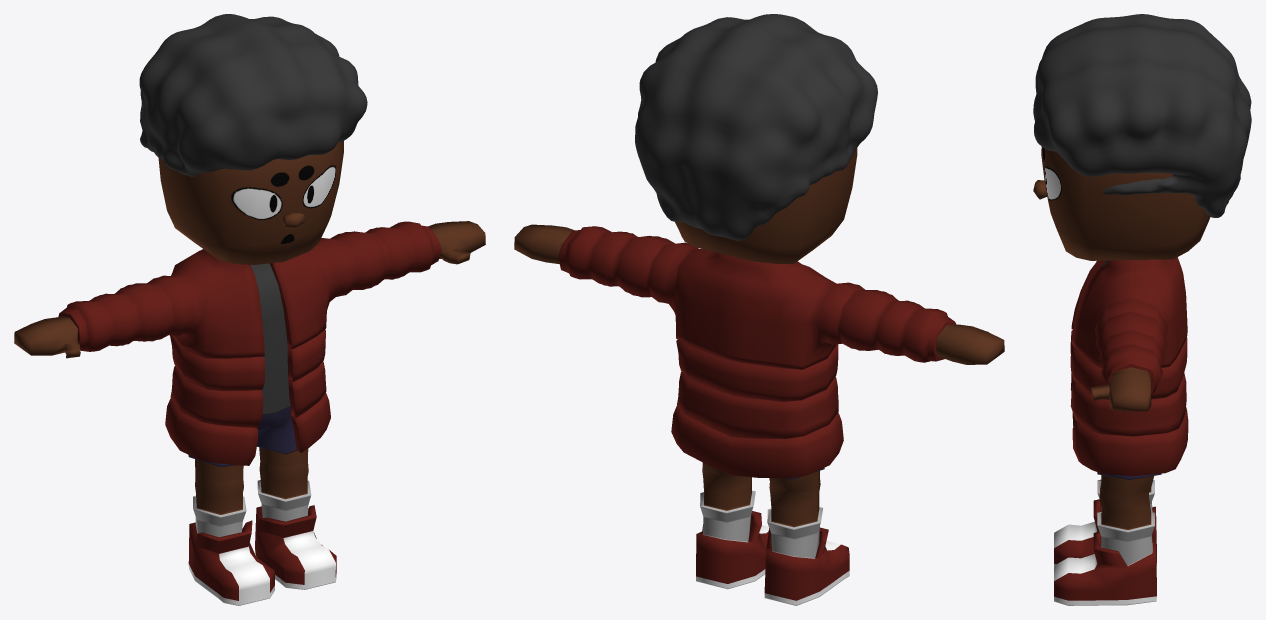
The model's file is player-v6-join+face.fbx.
3 views of the same model, side by side, from view 1: azimuth 30°, elevation 25°; view 2: azimuth 150°, elevation 25°; view 3: azimuth 270°, elevation 25° (orthographic). The views are drawn at different scales.
Visible parts, largest first — view 1: Retopo_Mball.001; view 2: Retopo_Mball.001; view 3: Retopo_Mball.001.
Part boxes in pixels (x1=…): Retopo_Mball.001: x1=14, y1=14, x2=485, y2=605; Retopo_Mball.001: x1=514, y1=14, x2=1004, y2=605; Retopo_Mball.001: x1=1033, y1=14, x2=1251, y2=605.
Size of the model in its own units: 369 by 413 by 148.
